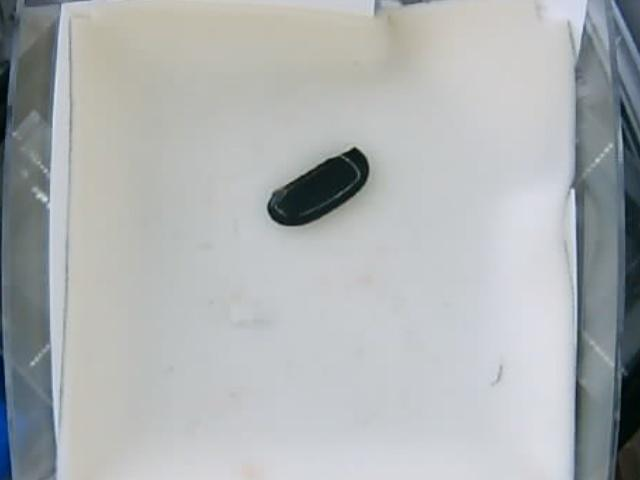Pebble: (269, 146, 369, 227)
